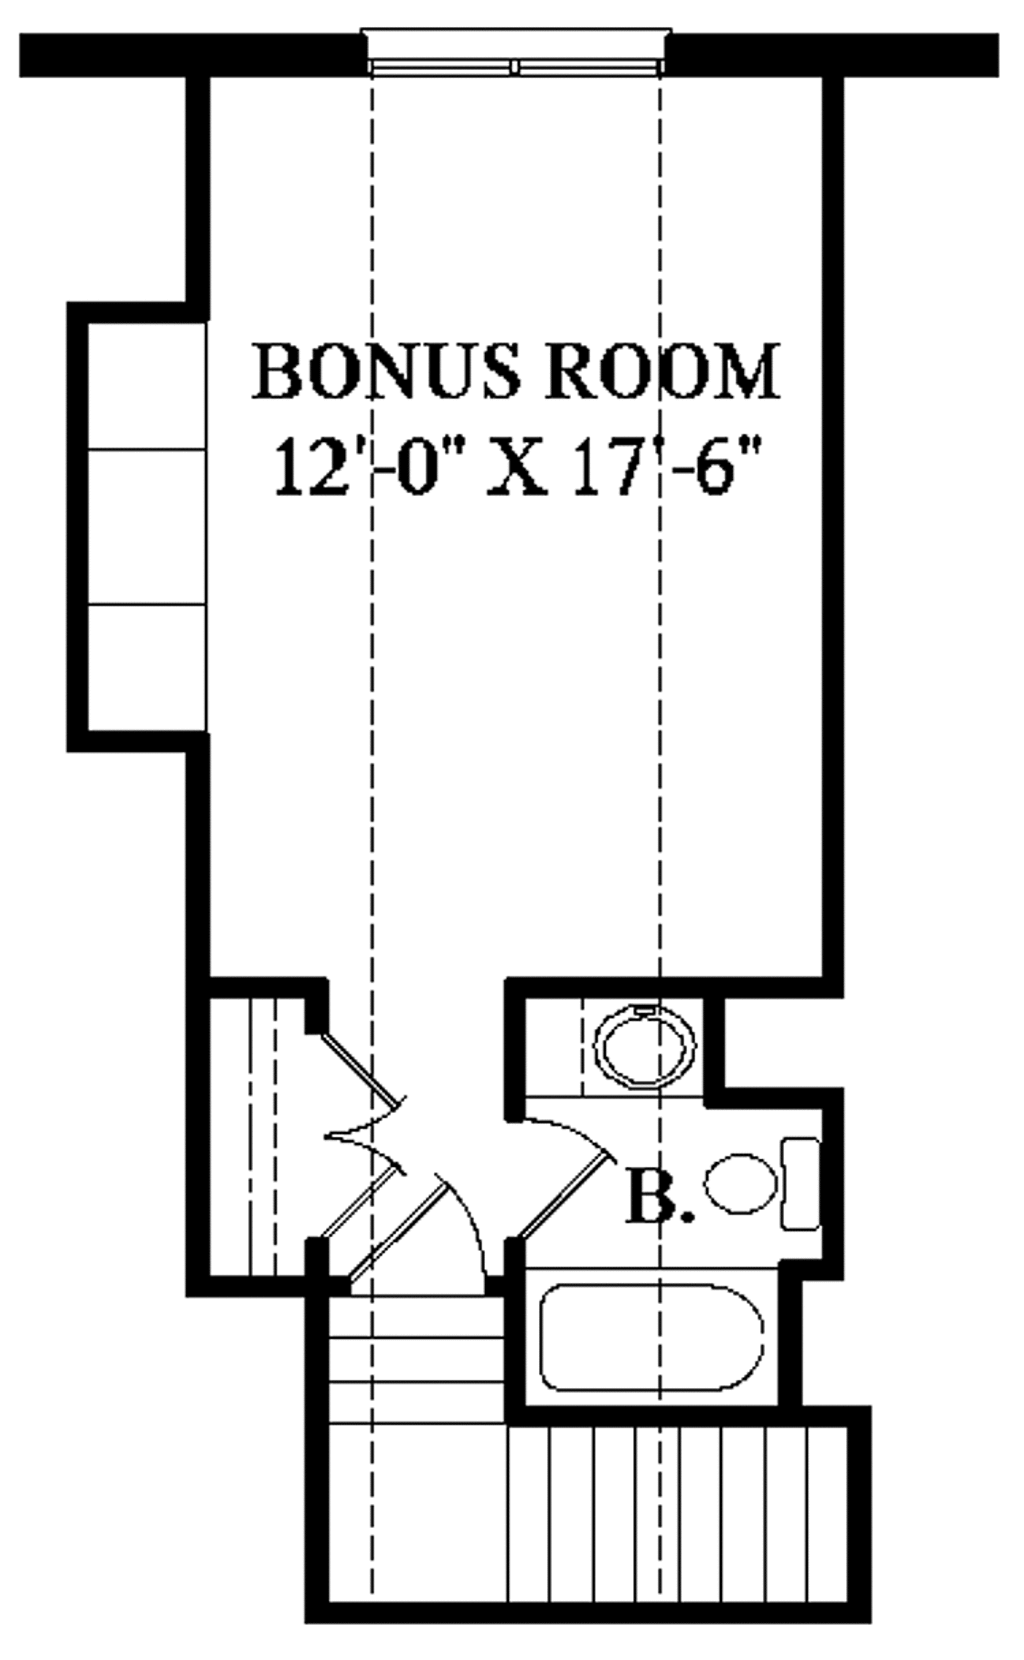door: (305, 1036, 411, 1250), (352, 1185, 497, 1295), (500, 1115, 615, 1237)
large_sink: (698, 1125, 836, 1244)
small_sink: (521, 996, 704, 1102)
stairs: (324, 1407, 859, 1613)
tub: (521, 1262, 779, 1405)
window: (352, 23, 678, 89)
